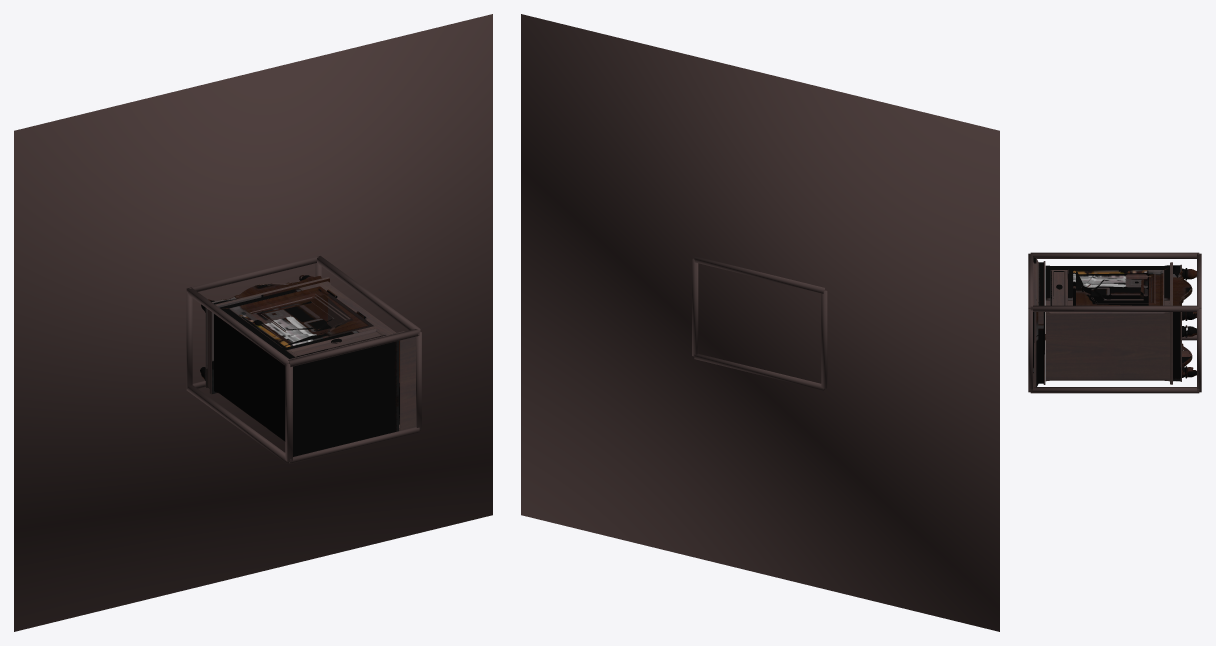
The picture shows the model from 3 angles, left to right: view 1: azimuth 30°, elevation 25°; view 2: azimuth 150°, elevation 25°; view 3: azimuth 270°, elevation 25°; orthographic projection. The views are drawn at different scales.
Bounding box in the file's own units: 2 × 2 × 0.745.
